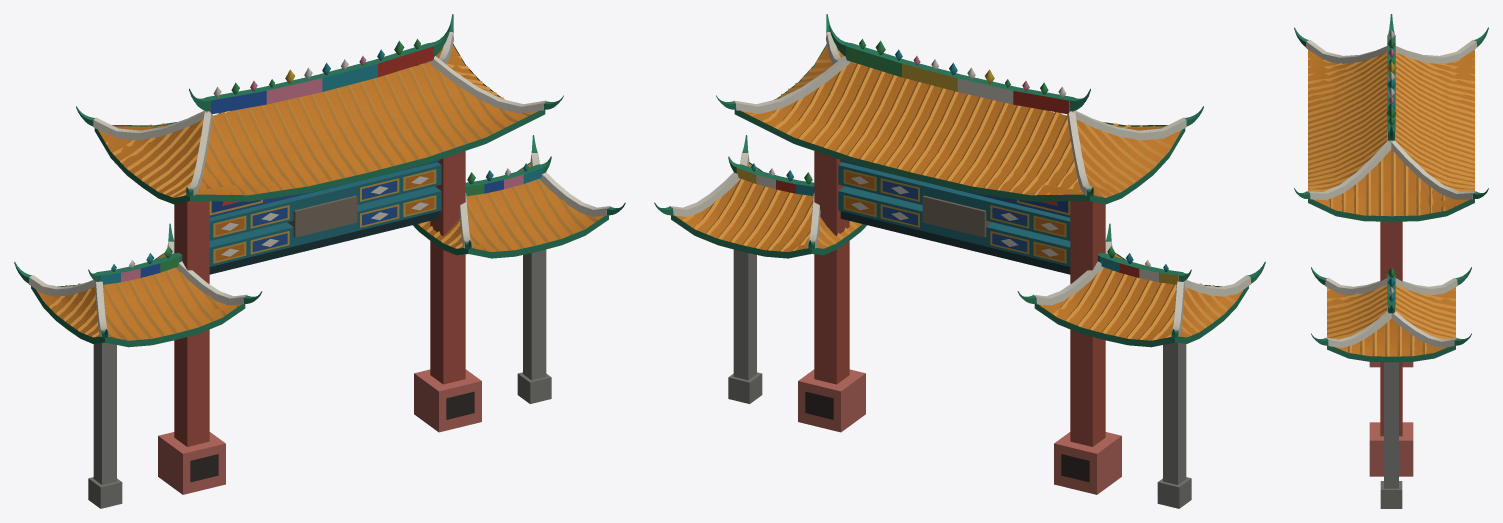
3 renders of one model, left to right at view 1: azimuth 30°, elevation 25°; view 2: azimuth 150°, elevation 25°; view 3: azimuth 270°, elevation 25°, orthographic. The views are drawn at different scales.
Visible parts, largest first — view 1: carpenter-street-harmony-arch-lod0; view 2: carpenter-street-harmony-arch-lod0; view 3: carpenter-street-harmony-arch-lod0.
Boxes of the visible parts, x1,y1,x2,y2 form: carpenter-street-harmony-arch-lod0: [14, 14, 625, 508]; carpenter-street-harmony-arch-lod0: [654, 14, 1265, 508]; carpenter-street-harmony-arch-lod0: [1294, 14, 1488, 508].
Bounding box in the file's own units: 12.59 × 9.08 × 4.67.
